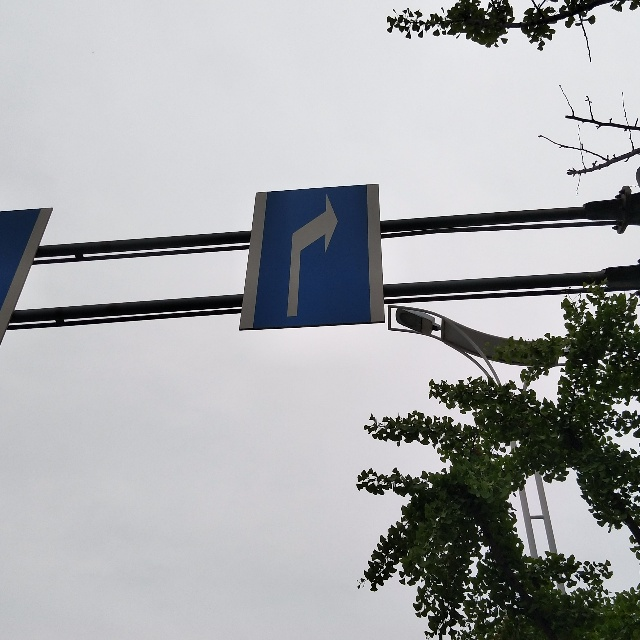right: (260, 190, 360, 325)
